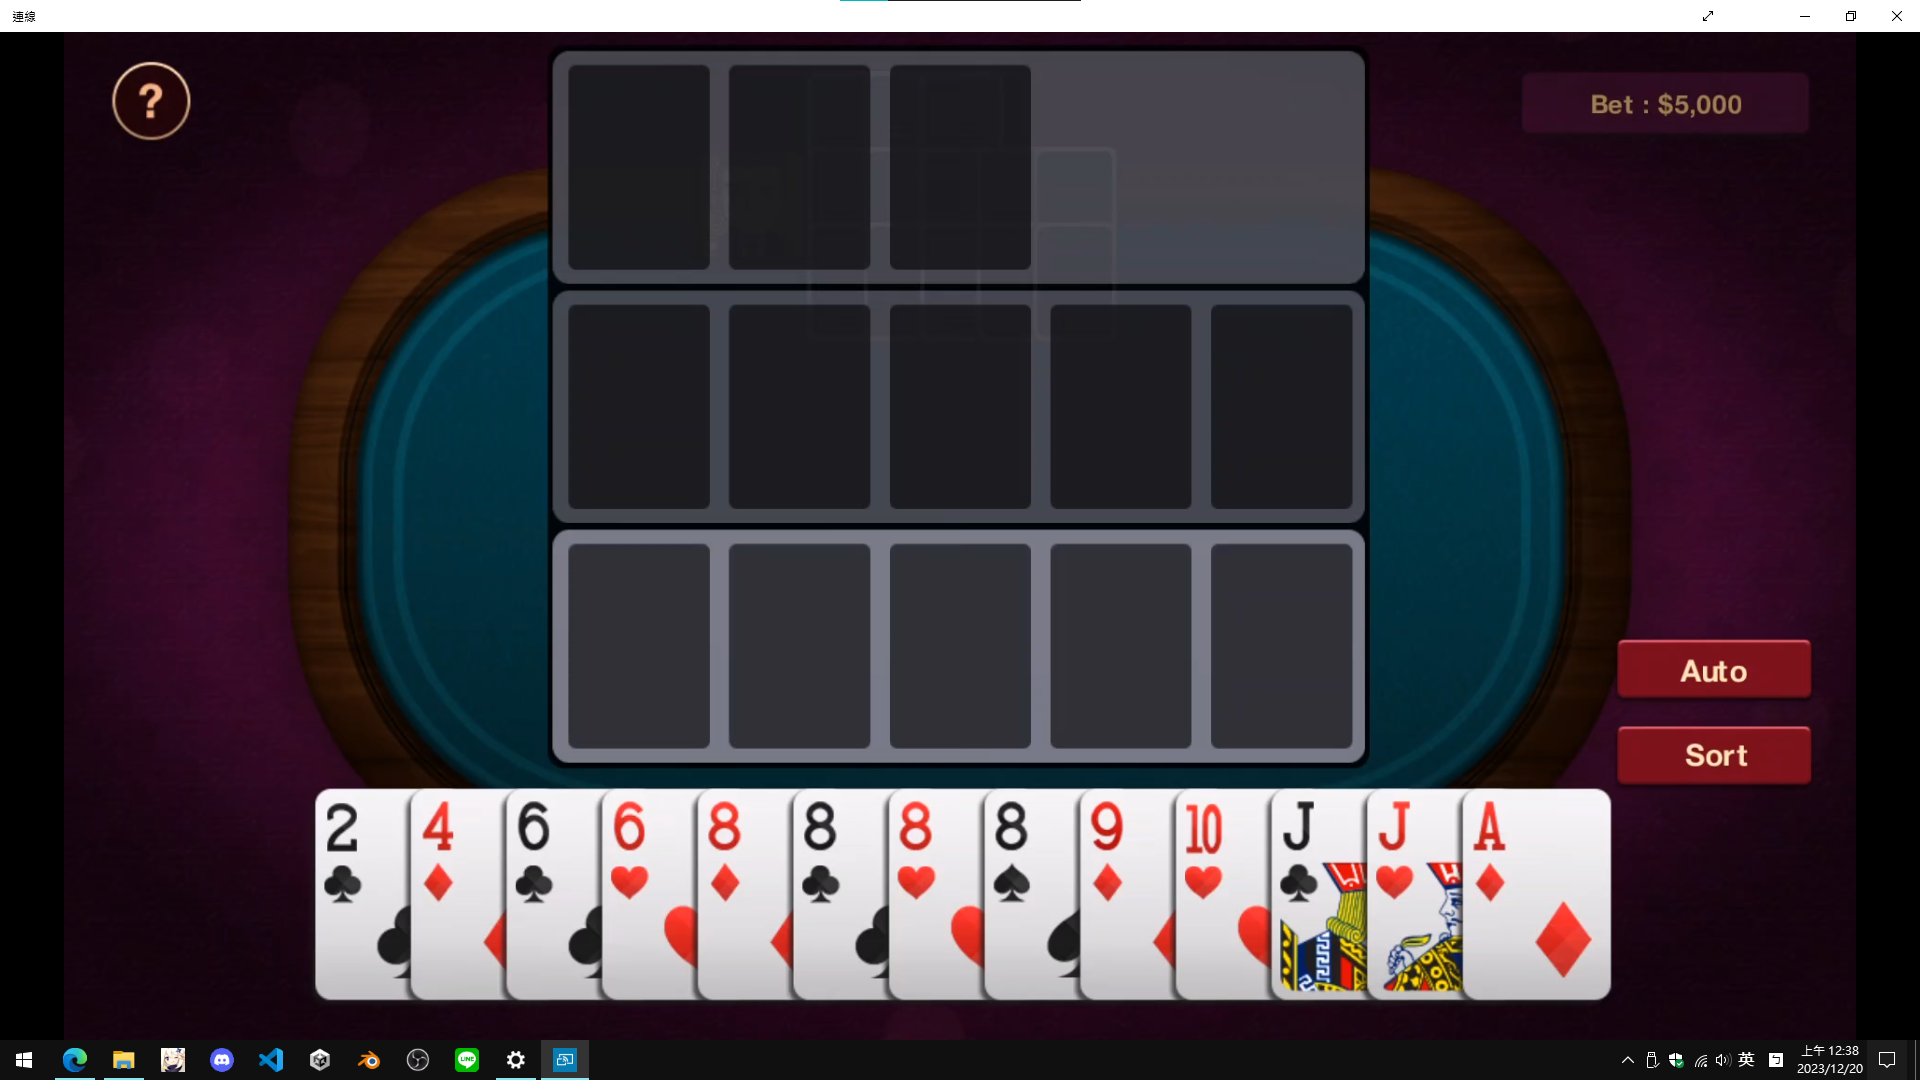10H: (1181, 798, 1226, 907)
2C: (323, 796, 366, 913)
4D: (417, 796, 461, 913)
6C: (514, 795, 559, 913)
6H: (610, 796, 652, 907)
8C: (794, 798, 845, 911)
8D: (701, 796, 752, 907)
8H: (895, 798, 935, 905)
8S: (990, 798, 1034, 914)
9D: (1086, 794, 1128, 911)
AD: (1470, 798, 1508, 911)
JC: (1275, 798, 1321, 907)
JH: (1372, 796, 1417, 905)
